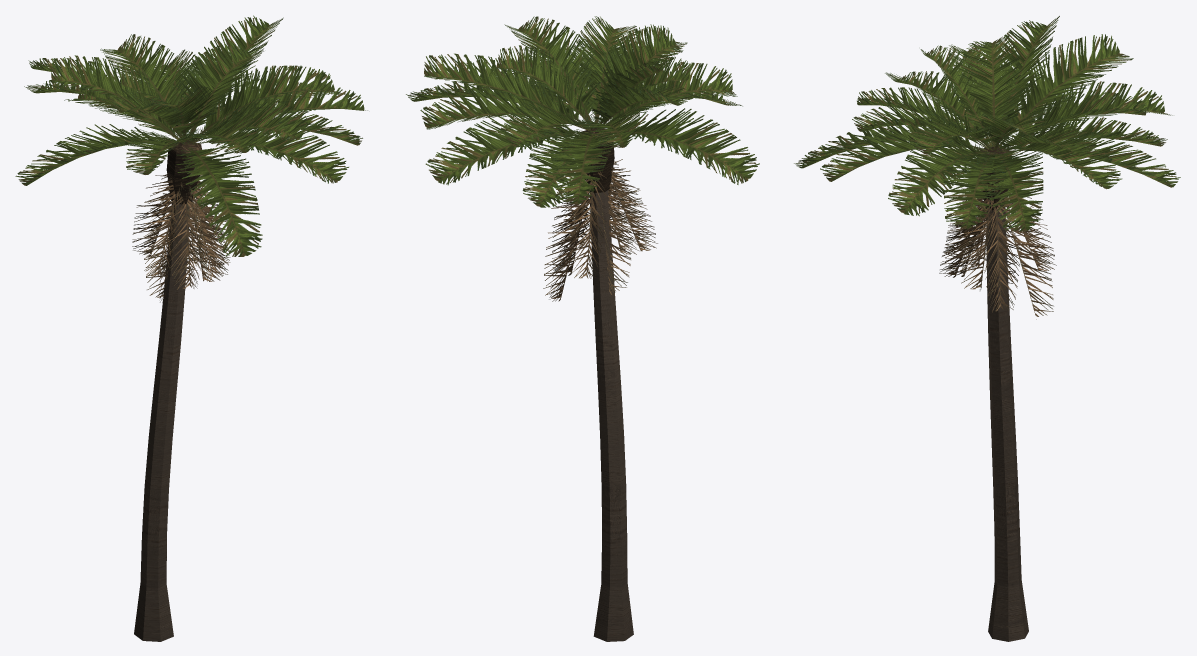
The model's file is plant_palm_date_a_v5.glb.
The picture shows the model from 3 angles, left to right: view 1: azimuth 30°, elevation 25°; view 2: azimuth 150°, elevation 25°; view 3: azimuth 270°, elevation 25°; orthographic projection.
Parts seen in each view (by area): view 1: plant_palm_date_a_v5; view 2: plant_palm_date_a_v5; view 3: plant_palm_date_a_v5.
Part boxes in pixels (<box>): plant_palm_date_a_v5: <box>15,15,367,641</box>; plant_palm_date_a_v5: <box>406,16,759,641</box>; plant_palm_date_a_v5: <box>794,16,1180,641</box>.
Bounding box in the file's own units: 5.91 × 9.8 × 5.96.
Materials: 1 (1 with a texture image).
